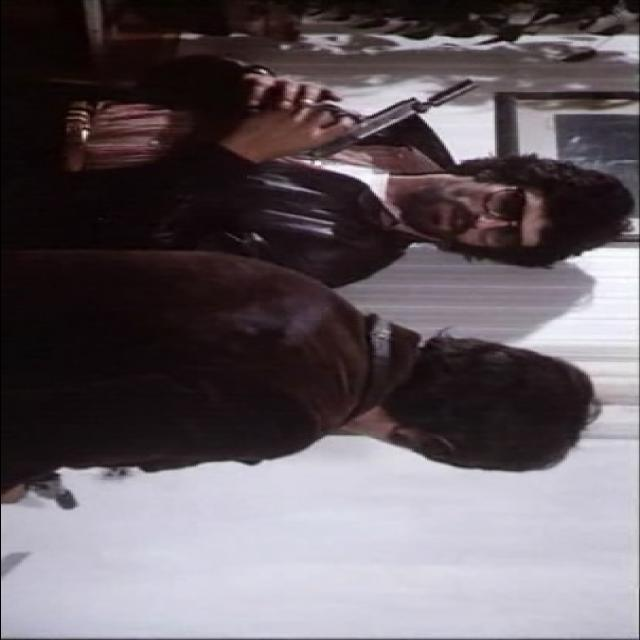weapons: (246, 68, 514, 162)
